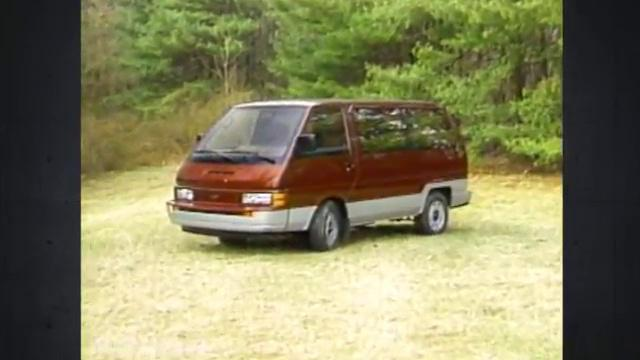van: (166, 96, 473, 249)
